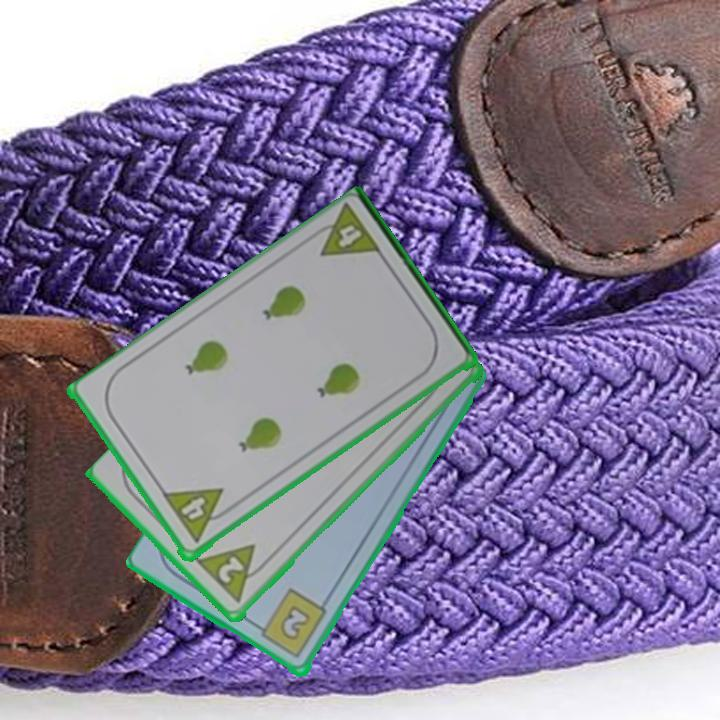2b: (251, 586, 330, 662)
2p: (194, 540, 273, 607)
4p: (160, 484, 236, 547), (305, 202, 385, 261)
